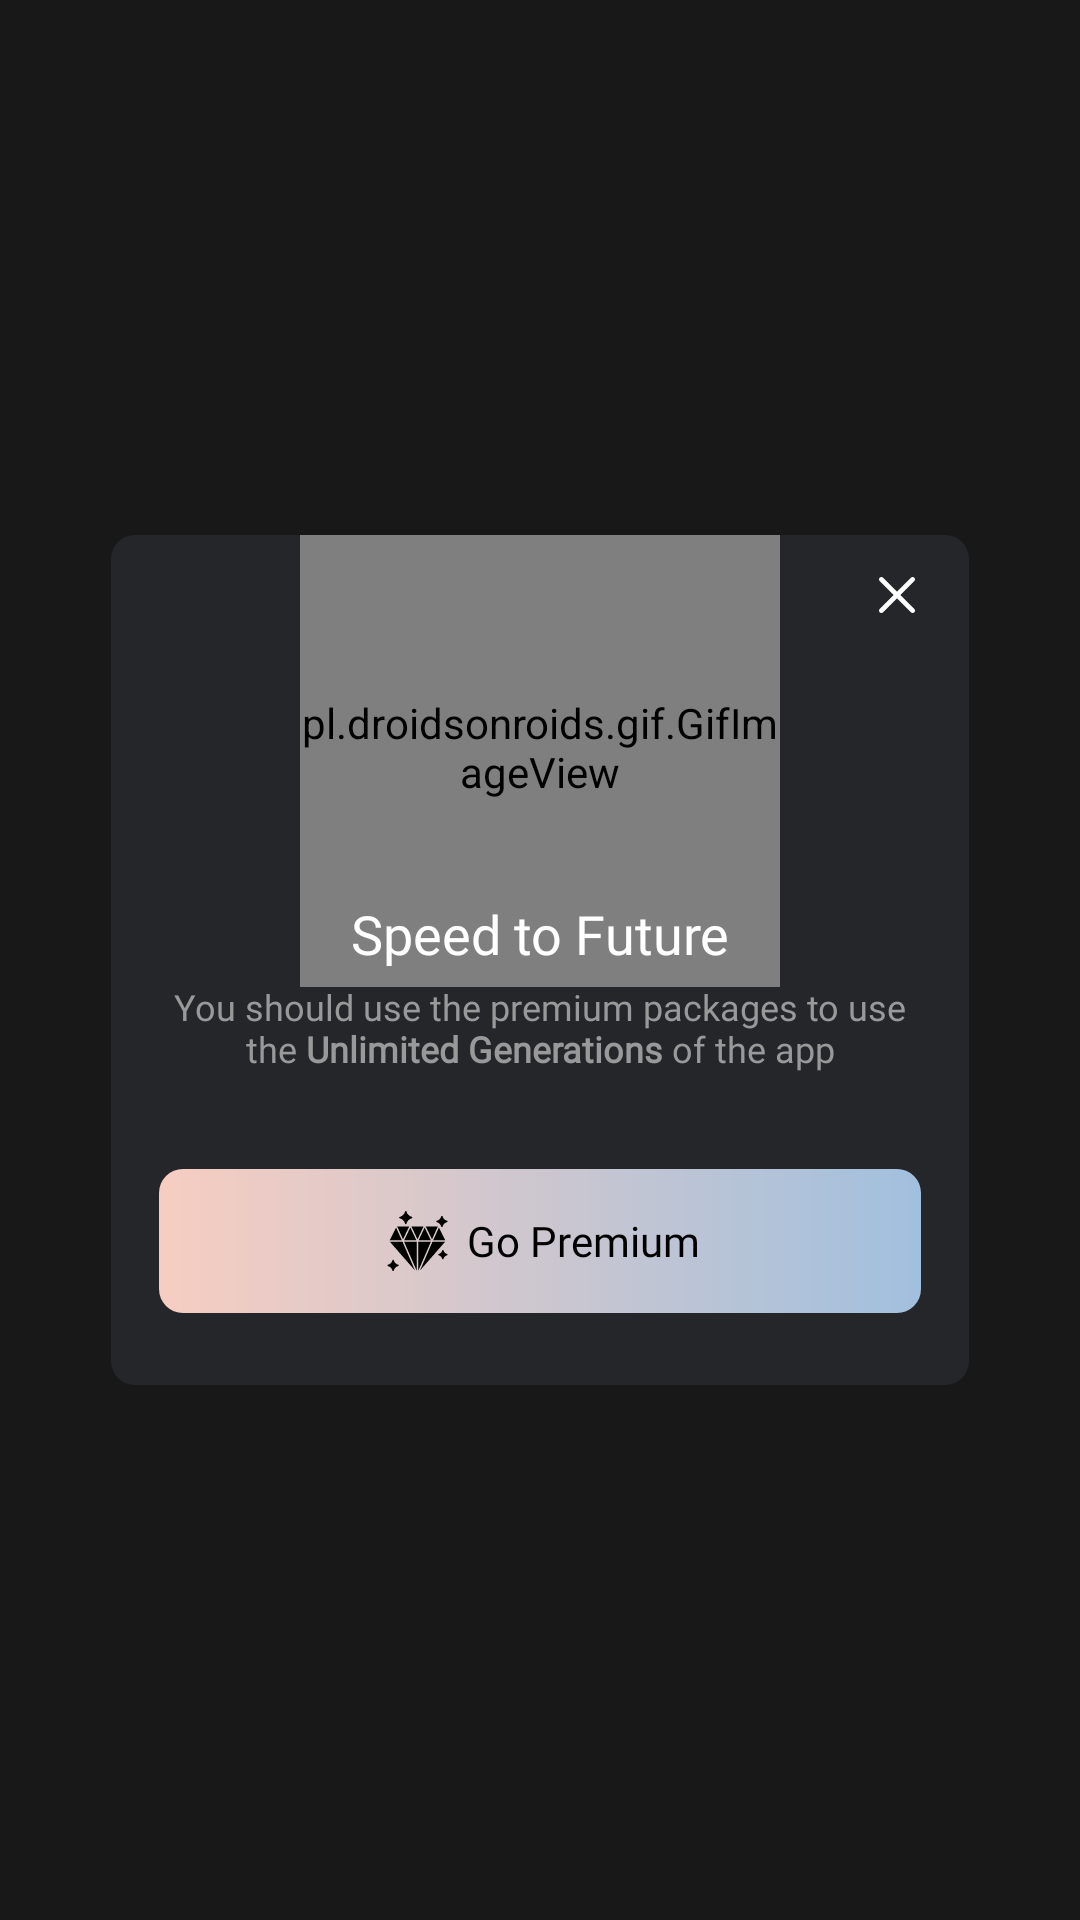

Locate icon controls on the screen. Image size 1080 × 1920, boxes as BBox(x1, y1, x2, y2).
close: BBox(879, 577, 915, 613)
diamond: BBox(387, 1211, 448, 1271)
